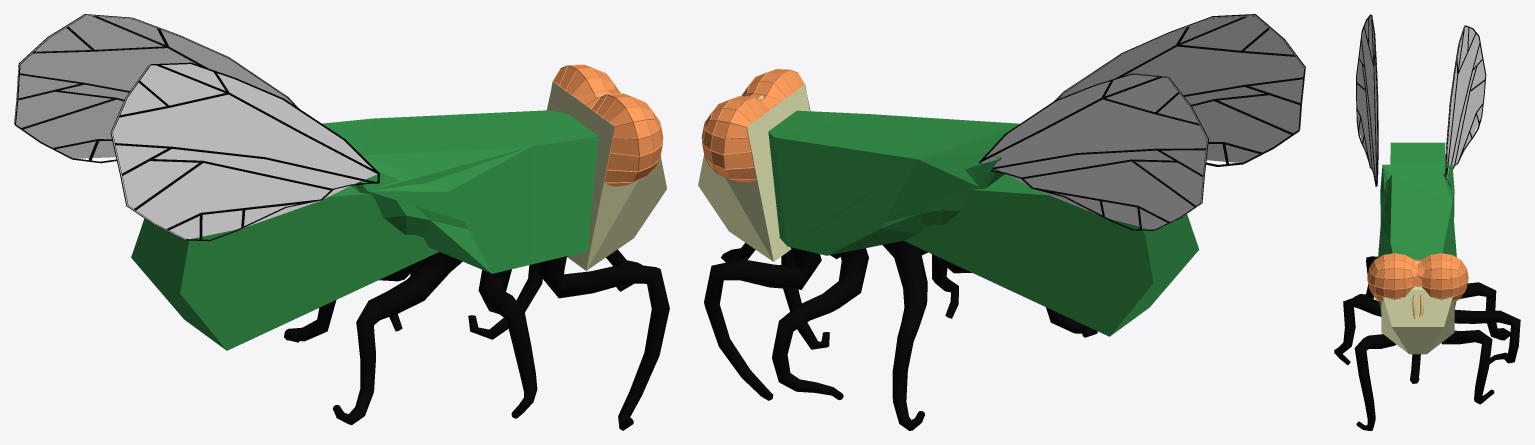
File: ChrysomyamegacephalaMaleLowPoly.fbx
3 views of the same model, side by side, from view 1: azimuth 30°, elevation 25°; view 2: azimuth 150°, elevation 25°; view 3: azimuth 270°, elevation 25° (orthographic). The views are drawn at different scales.
Parts seen in each view (by area): view 1: Thorax, Right Wing, Abdomen, Left Wing, Head, Leg4, Plane.001, Leg6, RightEye, Leg5, Plane.004, LeftEYe (+3 smaller); view 2: Thorax, Abdomen, Left Wing, Right Wing, Head, Leg1, Leg2, Leg3, Plane.004, LeftEYe, Plane.001, RightEye (+4 smaller); view 3: Thorax, Head, Left Wing, Right Wing, RightEye, LeftEYe, Plane.004, Plane.001, Leg4, Leg2, Abdomen, Leg1 (+6 smaller).
Part boxes in pixels (<box>): Thorax: <box>322,110,598,273</box>; Right Wing: <box>111,64,377,239</box>; Abdomen: <box>131,186,438,350</box>; Left Wing: <box>14,14,297,158</box>; Head: <box>547,81,666,270</box>; Leg4: <box>535,256,669,430</box>; Plane.001: <box>110,62,379,241</box>; Leg6: <box>333,252,457,424</box>; RightEye: <box>580,94,662,186</box>; Leg5: <box>478,269,537,418</box>; Plane.004: <box>14,14,299,163</box>; LeftEYe: <box>553,65,619,104</box>; Thorax: <box>768,110,1019,255</box>; Abdomen: <box>904,174,1199,336</box>; Left Wing: <box>981,73,1207,229</box>; Right Wing: <box>1056,15,1305,162</box>; Head: <box>698,85,809,261</box>; Leg1: <box>704,247,821,400</box>; Leg2: <box>772,248,868,399</box>; Leg3: <box>889,241,927,430</box>; Plane.004: <box>979,73,1208,230</box>; LeftEYe: <box>702,96,775,182</box>; Plane.001: <box>1054,14,1305,166</box>; RightEye: <box>742,69,804,108</box>; Thorax: <box>1378,164,1456,312</box>; Head: <box>1381,261,1454,354</box>; Left Wing: <box>1446,25,1485,178</box>; Right Wing: <box>1357,15,1377,181</box>; RightEye: <box>1367,254,1422,302</box>; LeftEYe: <box>1416,254,1468,301</box>; Plane.004: <box>1445,25,1486,179</box>; Plane.001: <box>1356,14,1378,186</box>; Leg4: <box>1354,334,1396,430</box>; Leg2: <box>1454,309,1520,364</box>; Abdomen: <box>1390,142,1445,164</box>; Leg1: <box>1441,330,1494,404</box>.
Bounding box in the file's own units: 502 × 385 × 231.
